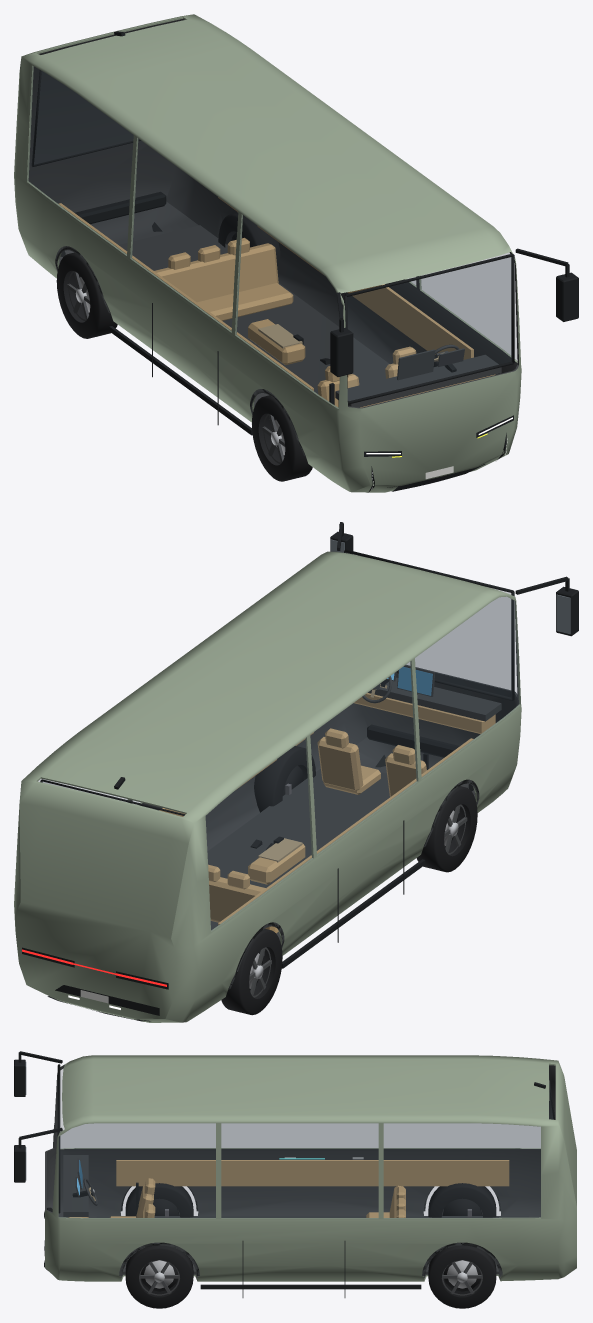
Rendered from training-light-truck.glb.
3 renders of one model, top to bottom at view 1: azimuth 30°, elevation 25°; view 2: azimuth 150°, elevation 25°; view 3: azimuth 270°, elevation 25°, orthographic. The views are drawn at different scales.
Visible parts, largest first — view 1: Body, Surface_CarRoot_Glass, Interior_CarRoot_InteriorLeather, Interior_CarRoot_InteriorDark, Surface_CarRoot_BlackTrim, Surface_WheelFrontR_Tyre, Surface_WheelRearR_Tyre, Surface_WheelRearL_Tyre, Surface_CarRoot_Cladding; view 2: Body, Surface_CarRoot_Glass, Interior_CarRoot_InteriorDark, Interior_CarRoot_InteriorLeather, Surface_CarRoot_BlackTrim, Surface_WheelRearR_Tyre, Surface_WheelFrontR_Tyre, Surface_WheelFrontL_Tyre, Surface_CarRoot_MirrorGlass, InteriorCenterScreen, Surface_CarRoot_Cladding; view 3: Body, Surface_CarRoot_Glass, Interior_CarRoot_InteriorLeather, Surface_CarRoot_BlackTrim, Surface_WheelFrontL_Tyre, Surface_WheelRearL_Tyre, Interior_CarRoot_InteriorDark, Surface_WheelRearR_Tyre, Surface_WheelFrontR_Tyre, Surface_CarRoot_Cladding, Surface_WheelRearL_Rim, Surface_WheelFrontL_Rim (+2 smaller).
Part boxes in pixels (x1,y1,x2,y2): Body: (14, 14, 521, 492); Surface_CarRoot_Glass: (27, 66, 517, 407); Interior_CarRoot_InteriorLeather: (58, 197, 495, 407); Interior_CarRoot_InteriorDark: (59, 225, 501, 422); Surface_CarRoot_BlackTrim: (31, 31, 578, 492); Surface_WheelFrontR_Tyre: (252, 395, 312, 481); Surface_WheelRearR_Tyre: (56, 252, 117, 338); Surface_WheelRearL_Tyre: (218, 212, 280, 269); Surface_CarRoot_Cladding: (55, 246, 304, 455); Body: (14, 551, 521, 1022); Surface_CarRoot_Glass: (38, 590, 520, 931); Interior_CarRoot_InteriorDark: (207, 665, 501, 955); Interior_CarRoot_InteriorLeather: (159, 693, 495, 933); Surface_CarRoot_BlackTrim: (22, 522, 578, 1021); Surface_WheelRearR_Tyre: (221, 929, 282, 1015); Surface_WheelFrontR_Tyre: (416, 786, 477, 872); Surface_WheelFrontL_Tyre: (254, 746, 315, 812); Surface_CarRoot_MirrorGlass: (330, 539, 570, 634); InteriorCenterScreen: (397, 666, 432, 695); Surface_CarRoot_Cladding: (228, 779, 479, 989); Body: (45, 1055, 576, 1281); Surface_CarRoot_Glass: (59, 1069, 553, 1218); Interior_CarRoot_InteriorLeather: (68, 1160, 509, 1217); Surface_CarRoot_BlackTrim: (14, 1051, 554, 1297); Surface_WheelFrontL_Tyre: (125, 1245, 193, 1308); Surface_WheelRearL_Tyre: (428, 1245, 496, 1308); Interior_CarRoot_InteriorDark: (63, 1155, 528, 1273); Surface_WheelRearR_Tyre: (428, 1183, 496, 1217); Surface_WheelFrontR_Tyre: (125, 1183, 193, 1217); Surface_CarRoot_Cladding: (119, 1186, 502, 1275); Surface_WheelRearL_Rim: (441, 1261, 482, 1295); Surface_WheelFrontL_Rim: (139, 1261, 179, 1295).
Size of the model in its own units: 2.94 by 2.86 by 7.65.
